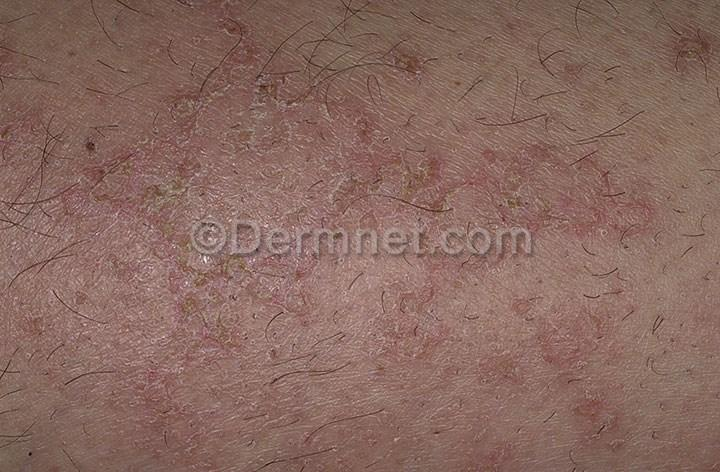Eczema: (59, 7, 507, 216), (510, 281, 668, 454), (129, 255, 342, 376), (544, 131, 675, 253), (660, 17, 720, 80)
